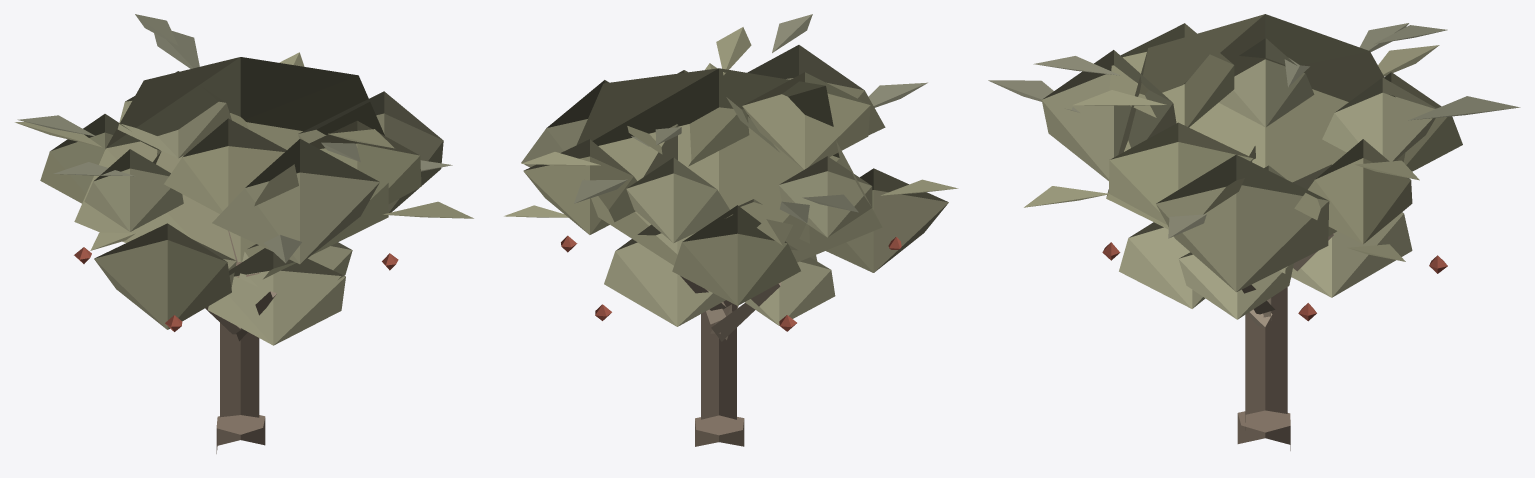
Rendered from shu.wujiaofeng@fruiting__winter.glb.
3 renders of one model, left to right at view 1: azimuth 30°, elevation 25°; view 2: azimuth 150°, elevation 25°; view 3: azimuth 270°, elevation 25°, orthographic. The views are drawn at different scales.
Parts seen in each view (by area): view 1: shu.wujiaofeng@fruiting__winter; view 2: shu.wujiaofeng@fruiting__winter; view 3: shu.wujiaofeng@fruiting__winter.
Boxes of the visible parts, x1,y1,x2,y2 form: shu.wujiaofeng@fruiting__winter: (15,14,473,453); shu.wujiaofeng@fruiting__winter: (504,14,958,446); shu.wujiaofeng@fruiting__winter: (988,14,1520,450).
Bounding box in the file's own units: 11.11 × 10.46 × 12.31.
